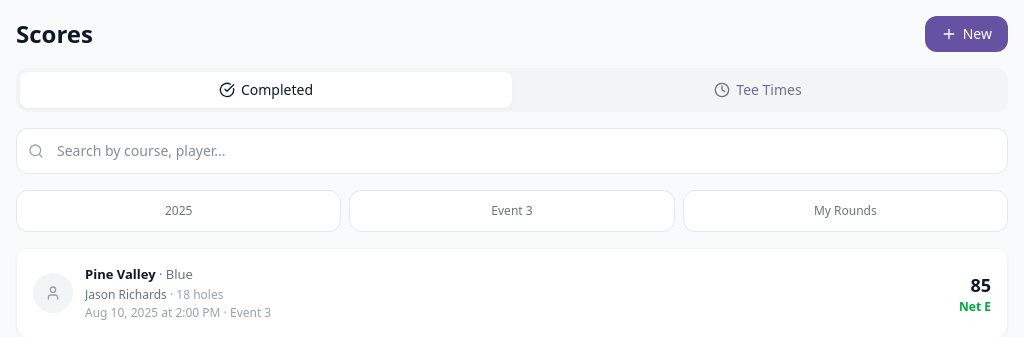
Test: Scores Page - Default to Current Event › auto-selects the current event on Tee Times tab too
Check: the 2nd dropdown shows "Event 3", box [349, 190, 675, 232]
Click the button "Tee Times" at (758, 90), box [512, 72, 1004, 108]
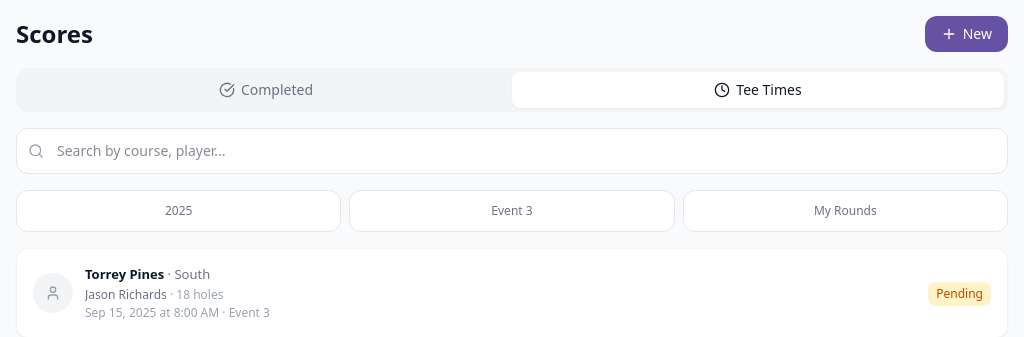
Check: the text "Torrey Pines" is shown, box [85, 265, 164, 283]
